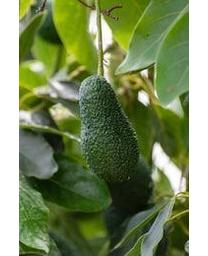avocado: (78, 75, 141, 183)
